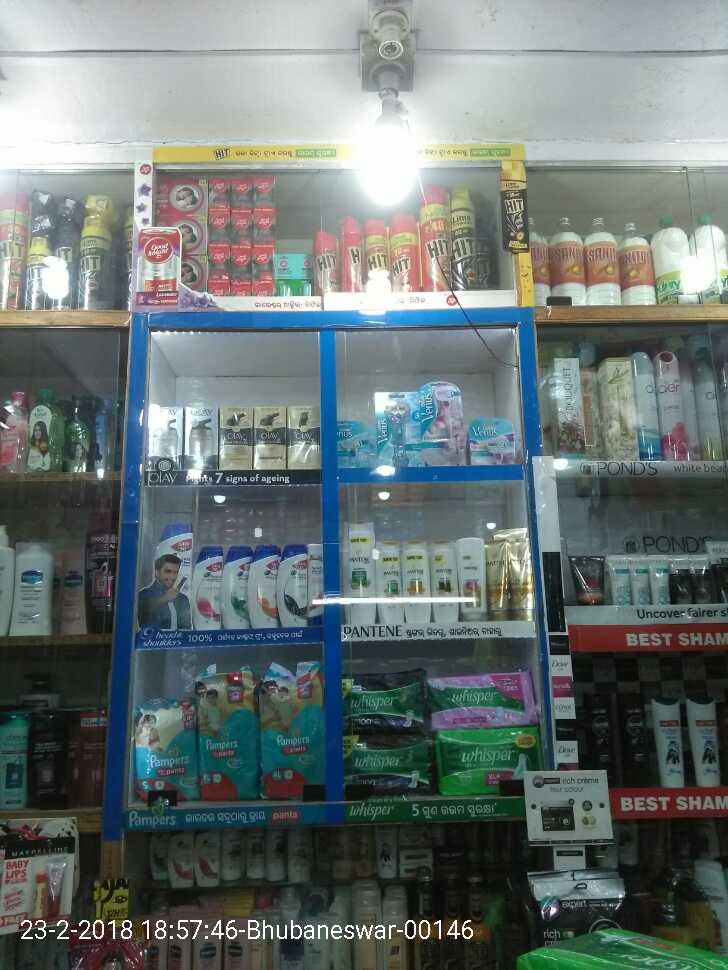venus: (419, 380, 471, 463), (377, 390, 418, 465), (471, 418, 516, 463), (338, 420, 375, 467)
